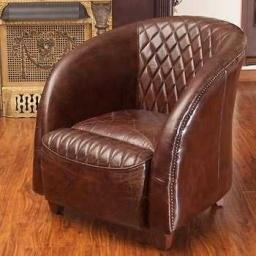Chair: (37, 14, 247, 243)
